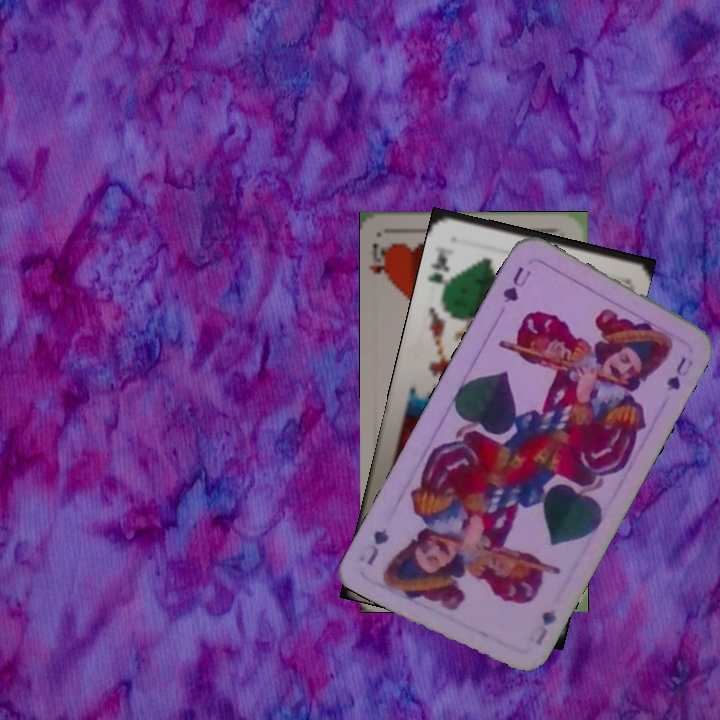GK: (424, 247, 452, 296)
GU: (498, 262, 534, 306), (531, 605, 559, 648)
HO: (366, 239, 393, 289)
